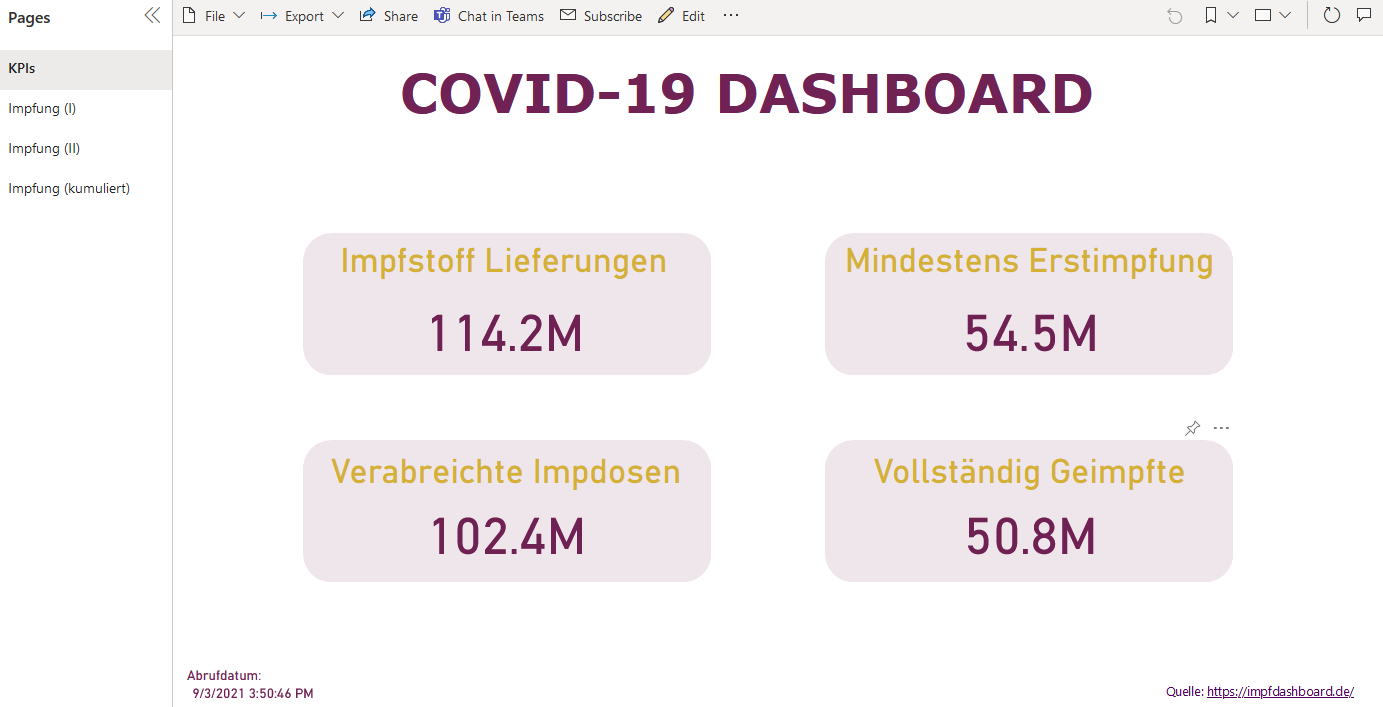

Layout of this report page (visuals, bound fields, positions):
{"tool":"powerbi","page":{"name":"KPIs","canvas":[1280,720],"ordinal":0},"visuals":[{"type":"card","title":"Impfstoff Lieferungen","fields":{"Values":["Sum(germany_deliveries_timeseries_v2.dosen)"]},"box":[159.7,217,380.8,142.7],"z":0},{"type":"card","title":"Mindestens Erstimpfung","fields":{"Values":["Sum(germany_vaccinations_by_state.peopleFirstTotal)"]},"box":[696.3,217,420,142.7],"z":1000},{"type":"card","title":"Vollständig Geimpfte","fields":{"Values":["Sum(germany_vaccinations_by_state.peopleFullTotal)"]},"box":[696.3,440.1,420,125.6],"z":2000},{"type":"card","title":"Verabreichte Impdosen","fields":{"Values":["Sum(germany_vaccinations_by_state.vaccinationsTotal)"]},"box":[137.6,440.1,429,125.6],"z":3000},{"type":"textbox","box":[235.1,21.1,809.8,110.5],"z":4000},{"type":"textbox","box":[1044.9,680.2,221,30.1],"z":5000},{"type":"shape","box":[137.6,209,432,150.7],"z":6000},{"type":"shape","box":[137.6,428,432,150.7],"z":7000},{"type":"shape","box":[690.2,209,432,150.7],"z":8000},{"type":"shape","box":[690.2,428,432,150.7],"z":9000},{"type":"card","title":"Abrufdatum:","fields":{"Values":["germany_vaccinations_timeseries_v2.Now"]},"box":[10,667.1,149.7,42.2],"z":9001}]}

Visuals, with their boxes on the page's 1280x720 design canvas (x1, y1, x2, y2). These are canvas units, not pixel positions in the 1383x707 screenshot, which may show the page scaled, cropped or inside an application window:
"Impfstoff Lieferungen" card: <region>160, 217, 540, 360</region>
"Mindestens Erstimpfung" card: <region>696, 217, 1116, 360</region>
"Vollständig Geimpfte" card: <region>696, 440, 1116, 566</region>
"Verabreichte Impdosen" card: <region>138, 440, 567, 566</region>
textbox: <region>235, 21, 1045, 132</region>
textbox: <region>1045, 680, 1266, 710</region>
shape: <region>138, 209, 570, 360</region>
shape: <region>138, 428, 570, 579</region>
shape: <region>690, 209, 1122, 360</region>
shape: <region>690, 428, 1122, 579</region>
"Abrufdatum:" card: <region>10, 667, 160, 709</region>
